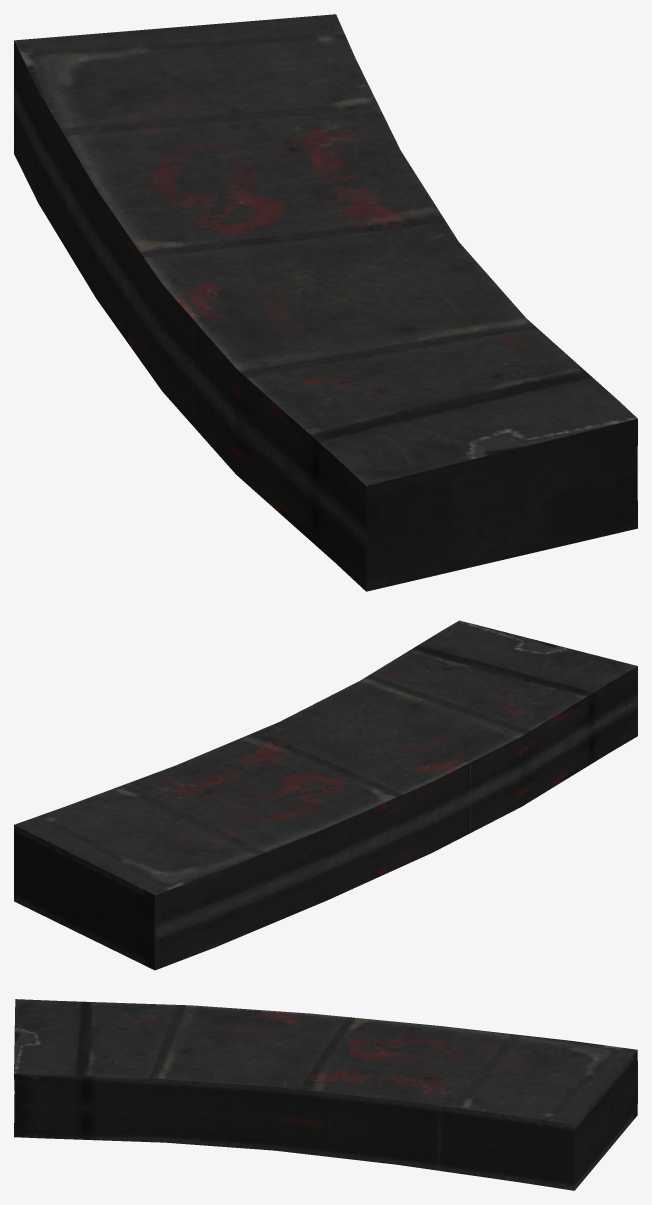
Rendered from t6_attach_mag_saiga_world_LOD0.obj.
3 views of the same model, one above another, from view 1: azimuth 30°, elevation 25°; view 2: azimuth 150°, elevation 25°; view 3: azimuth 270°, elevation 25° (orthographic). The views are drawn at different scales.
Visible parts, largest first — view 1: mtl_t6_wpn_shotty_saiga, mtl_t6_wpn_shotty_saiga_camo2; view 2: mtl_t6_wpn_shotty_saiga, mtl_t6_wpn_shotty_saiga_camo2; view 3: mtl_t6_wpn_shotty_saiga, mtl_t6_wpn_shotty_saiga_camo2.
Part boxes in pixels (<box>): mtl_t6_wpn_shotty_saiga: <box>38,58,637,591</box>; mtl_t6_wpn_shotty_saiga_camo2: <box>14,14,355,203</box>; mtl_t6_wpn_shotty_saiga: <box>66,620,637,947</box>; mtl_t6_wpn_shotty_saiga_camo2: <box>14,806,214,970</box>; mtl_t6_wpn_shotty_saiga: <box>14,999,570,1181</box>; mtl_t6_wpn_shotty_saiga_camo2: <box>518,1041,637,1190</box>.
Bounding box in the file's own units: 12 × 2.91 × 24.7.
